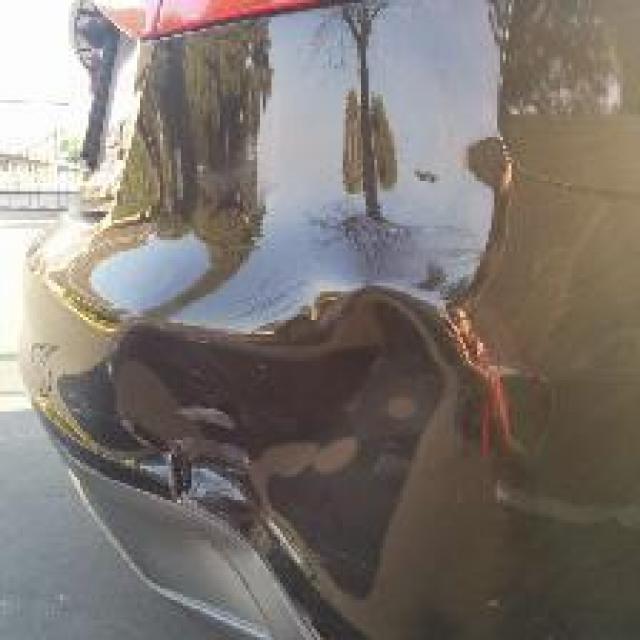damaged: (43, 282, 526, 638)
